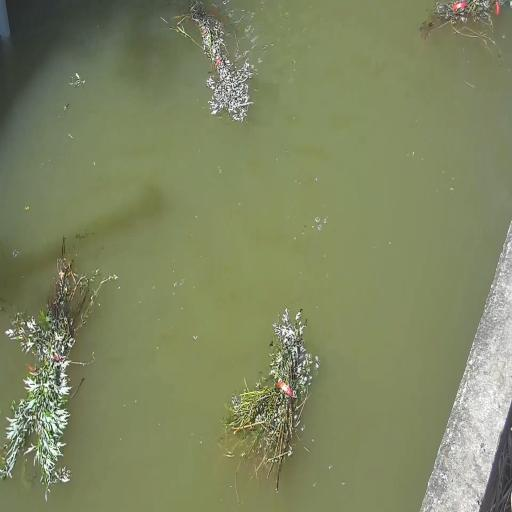twig: (1, 235, 116, 501), (220, 305, 318, 499), (164, 0, 256, 121), (418, 0, 507, 50)
